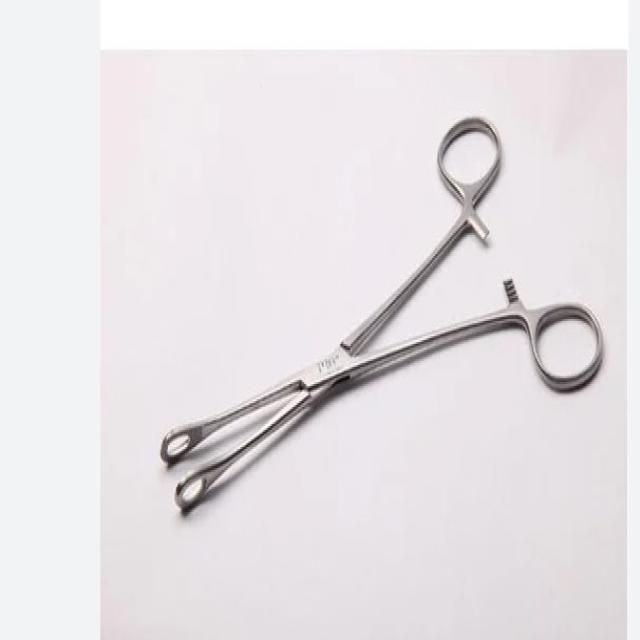Sponge Holding Forceps: (158, 88, 610, 531)
